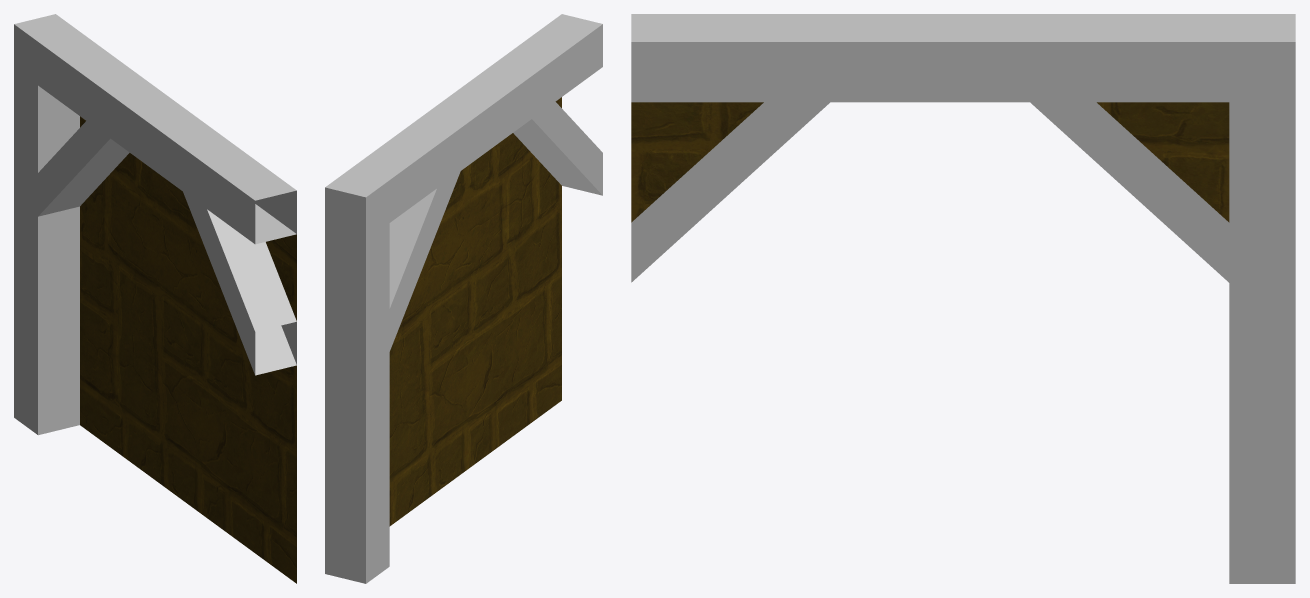
The model's file is WallSupportJoin.fbx.
3 renders of one model, left to right at view 1: azimuth 30°, elevation 25°; view 2: azimuth 150°, elevation 25°; view 3: azimuth 270°, elevation 25°, orthographic. The views are drawn at different scales.
Parts seen in each view (by area): view 1: WallSupportJoin; view 2: WallSupportJoin; view 3: WallSupportJoin.
Part boxes in pixels (bbox=[...]): WallSupportJoin: bbox=[14, 14, 296, 583]; WallSupportJoin: bbox=[325, 14, 602, 583]; WallSupportJoin: bbox=[631, 14, 1295, 583].
Size of the model in its own units: 1 by 9 by 10.
